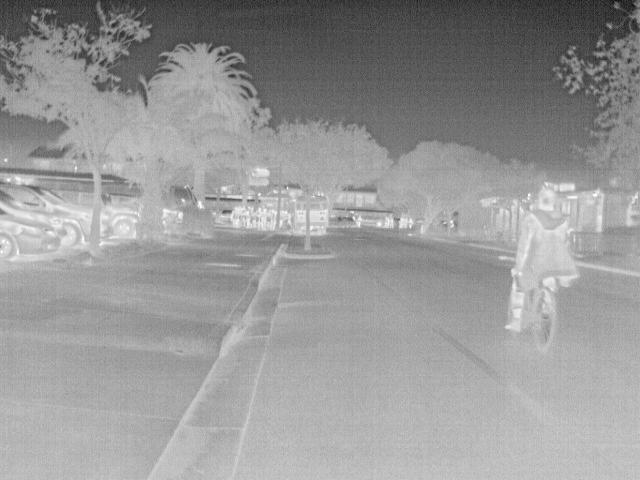car: (2, 181, 93, 251), (2, 208, 61, 265), (106, 205, 141, 239), (161, 206, 184, 234), (217, 208, 236, 225)
person: (502, 187, 573, 334), (355, 214, 364, 228)
